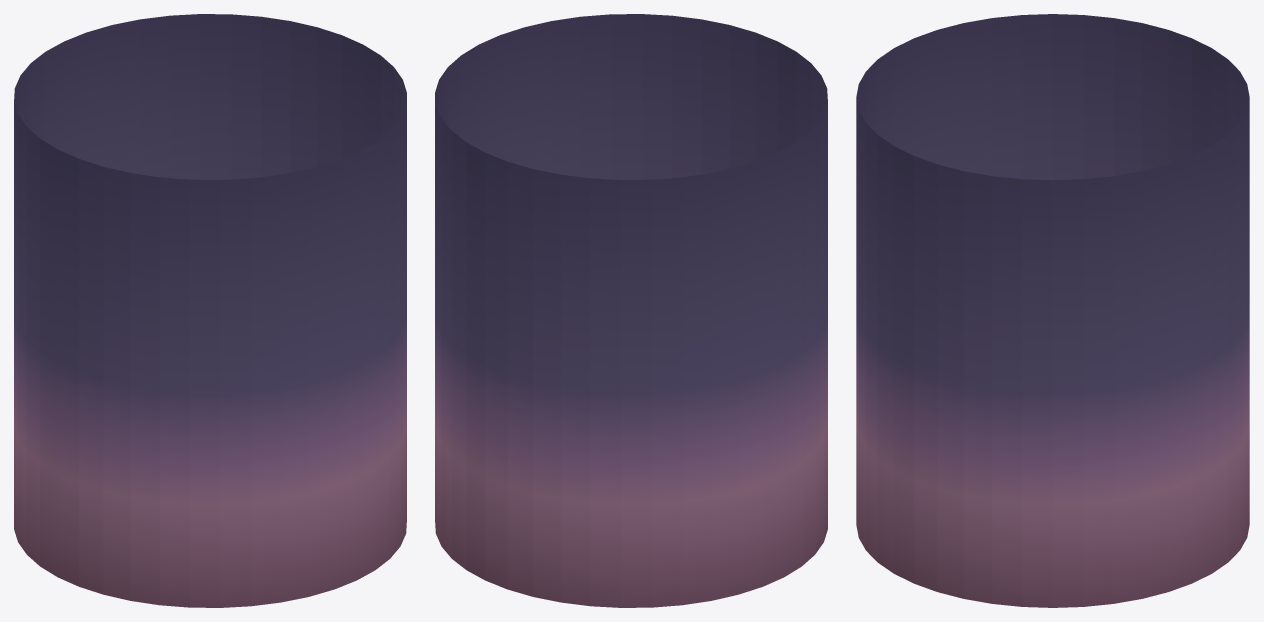
The model's file is studio.glb.
3 views of the same model, side by side, from view 1: azimuth 30°, elevation 25°; view 2: azimuth 150°, elevation 25°; view 3: azimuth 270°, elevation 25° (orthographic).
Bounding box in the file's own units: 10 × 12 × 10.
